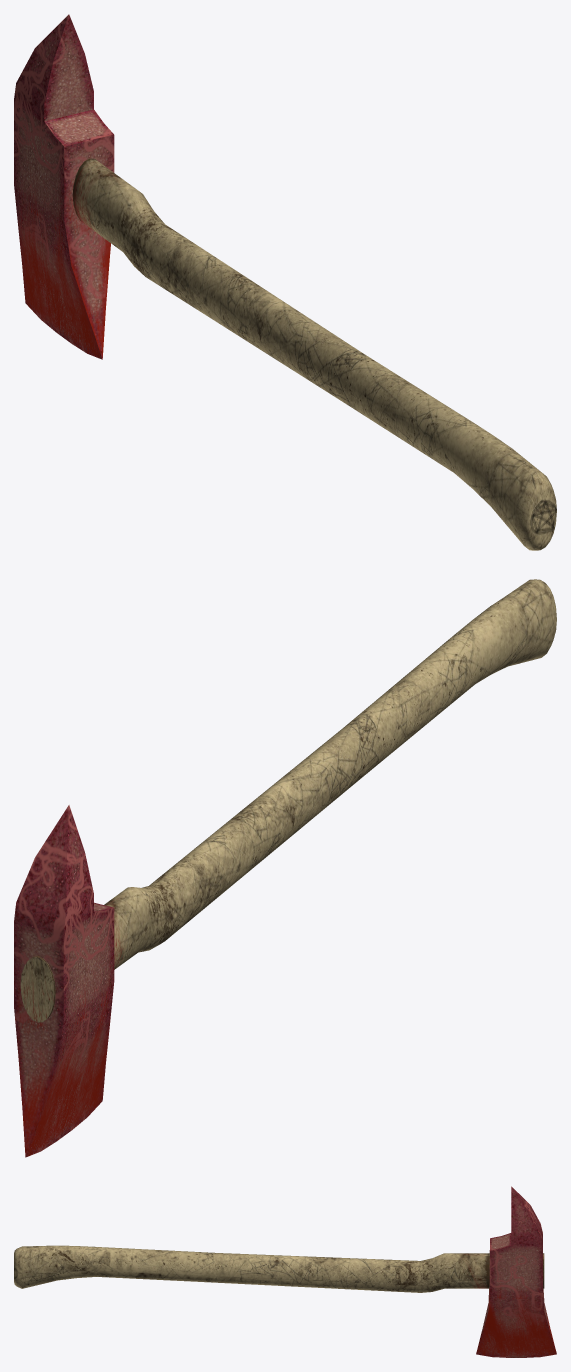
The picture shows the model from 3 angles, top to bottom: view 1: azimuth 30°, elevation 25°; view 2: azimuth 150°, elevation 25°; view 3: azimuth 270°, elevation 25°; orthographic projection. The views are drawn at different scales.
Parts seen in each view (by area): view 1: handle, head; view 2: handle, head; view 3: handle, head.
Part boxes in pixels (<box>): handle: <box>72,158,556,550</box>; head: <box>14,14,114,359</box>; handle: <box>20,579,556,1022</box>; head: <box>14,805,114,1157</box>; handle: <box>14,1245,544,1292</box>; head: <box>476,1186,556,1357</box>.
Bounding box in the file's own units: 0.111 × 0.6985 × 2.
Materials: 1 (1 with a texture image).
